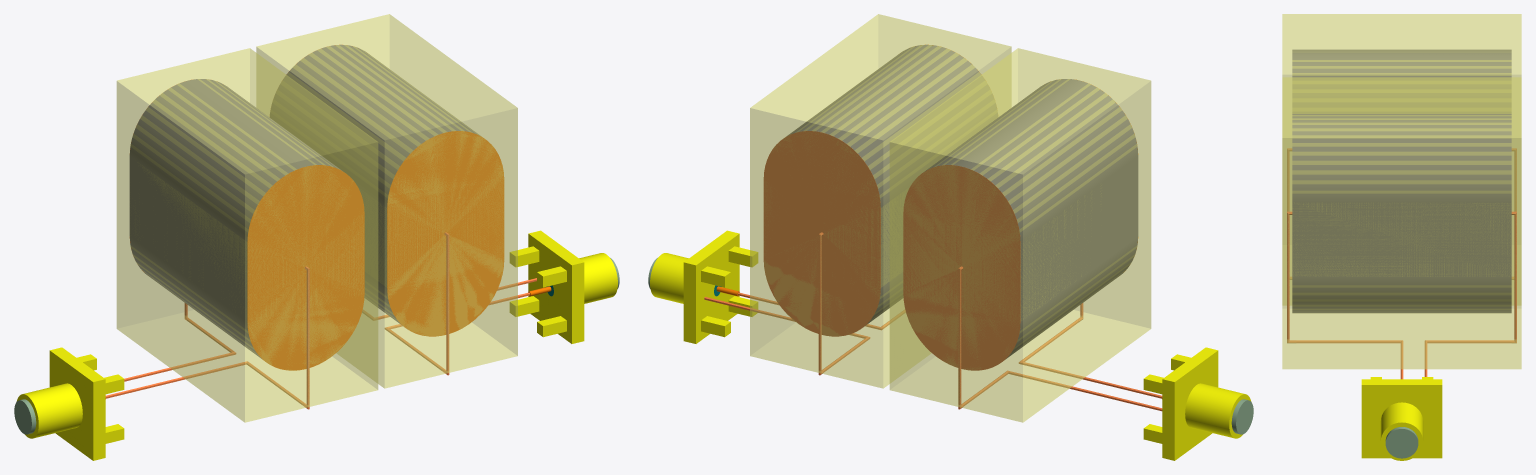
Rendered from AcopElectMagn.glb.
The picture shows the model from 3 angles, left to right: view 1: azimuth 30°, elevation 25°; view 2: azimuth 150°, elevation 25°; view 3: azimuth 270°, elevation 25°; orthographic projection. The views are drawn at different scales.
Parts seen in each view (by area): view 1: COMPOUND021, COMPOUND020, COMPOUND, COMPOUND018, COMPOUND016, COMPOUND003, COMPOUND013, COMPOUND010, COMPOUND008, COMPOUND022; view 2: COMPOUND021, COMPOUND020, COMPOUND, COMPOUND019, COMPOUND017, COMPOUND003, COMPOUND013, COMPOUND010, COMPOUND008, COMPOUND009, COMPOUND022; view 3: COMPOUND020, COMPOUND003, COMPOUND021, COMPOUND, COMPOUND013, COMPOUND023, COMPOUND005, COMPOUND006, COMPOUND004, COMPOUND007.
Boxes of the visible parts, x1,y1,x2,y2 form: COMPOUND021: (116,48,378,422); COMPOUND020: (256,14,517,388); COMPOUND: (129,79,341,358); COMPOUND018: (247,165,364,370); COMPOUND016: (387,131,504,336); COMPOUND003: (270,44,480,323); COMPOUND013: (510,230,617,343); COMPOUND010: (16,347,124,460); COMPOUND008: (105,361,303,404); COMPOUND022: (14,399,36,434); COMPOUND021: (889,48,1151,422); COMPOUND020: (750,14,1011,388); COMPOUND: (926,79,1138,358); COMPOUND019: (903,165,1020,370); COMPOUND017: (763,131,880,336); COMPOUND003: (787,44,997,323); COMPOUND013: (650,230,757,343); COMPOUND010: (1143,347,1251,460); COMPOUND008: (1019,320,1162,398); COMPOUND009: (962,371,1162,411); COMPOUND022: (1231,399,1253,434); COMPOUND020: (1282,77,1521,369); COMPOUND003: (1292,113,1511,312); COMPOUND021: (1282,14,1521,305); COMPOUND: (1292,49,1511,112); COMPOUND013: (1361,377,1442,460); COMPOUND023: (1385,427,1418,458); COMPOUND005: (1287,211,1295,342); COMPOUND006: (1296,340,1403,379); COMPOUND004: (1511,211,1516,342); COMPOUND007: (1424,340,1511,376).
Size of the model in its own units: 0.0793 by 0.0375 by 0.03.
